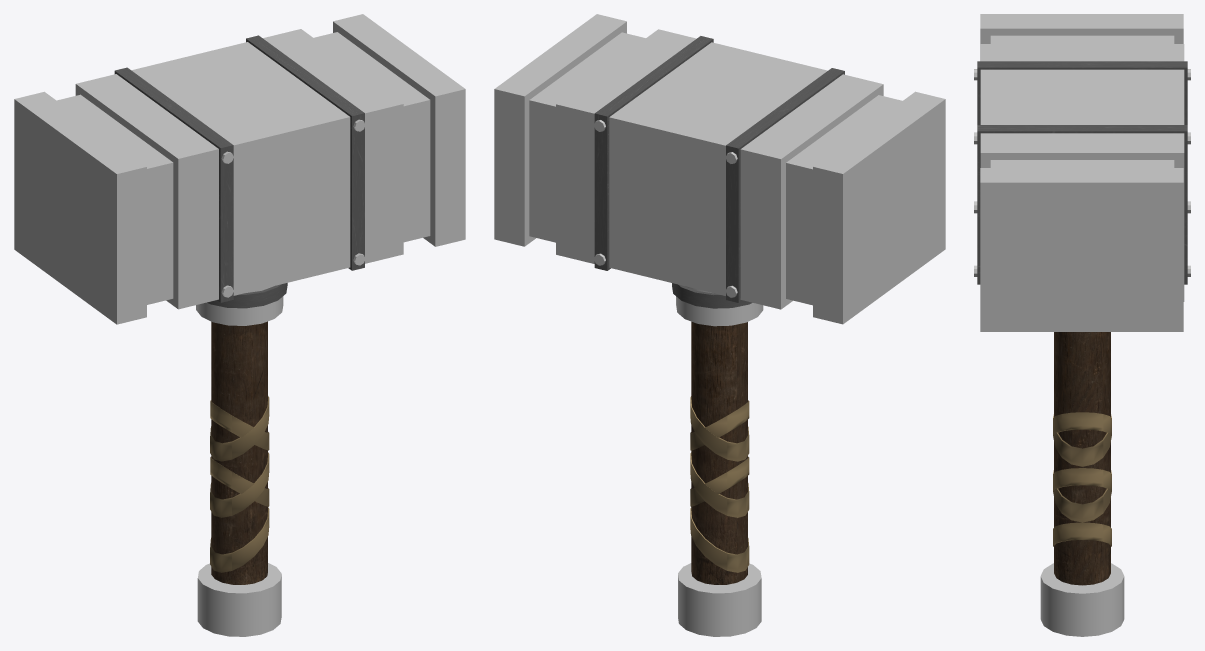
File: Hummer_2.fbx
The picture shows the model from 3 angles, left to right: view 1: azimuth 30°, elevation 25°; view 2: azimuth 150°, elevation 25°; view 3: azimuth 270°, elevation 25°; orthographic projection.
Visible parts, largest first — view 1: молот, рукоять, держатели, подставки, веревка, кольц на подставке; view 2: молот, рукоять, держатели, подставки, веревка, кольц на подставке; view 3: молот, рукоять, держатели, веревка, подставки, болты.
Boxes of the visible parts, left/top/right/bottom form: молот: left=14, top=14, right=465, bottom=324; рукоять: left=211, top=321, right=267, bottom=584; держатели: left=114, top=35, right=364, bottom=302; подставки: left=196, top=286, right=283, bottom=636; веревка: left=210, top=396, right=269, bottom=572; кольц на подставке: left=207, top=283, right=287, bottom=308; молот: left=494, top=14, right=945, bottom=324; рукоять: left=691, top=321, right=747, bottom=584; держатели: left=594, top=36, right=844, bottom=302; подставки: left=676, top=286, right=763, bottom=636; веревка: left=690, top=396, right=749, bottom=572; кольц на подставке: left=672, top=283, right=752, bottom=308; молот: left=980, top=14, right=1184, bottom=331; рукоять: left=1054, top=332, right=1110, bottom=585; держатели: left=977, top=61, right=1187, bottom=284; веревка: left=1053, top=412, right=1111, bottom=546; подставки: left=1040, top=563, right=1124, bottom=636; болты: left=974, top=69, right=1190, bottom=276.
Size of the model in its own units: 239 by 346 by 130.
